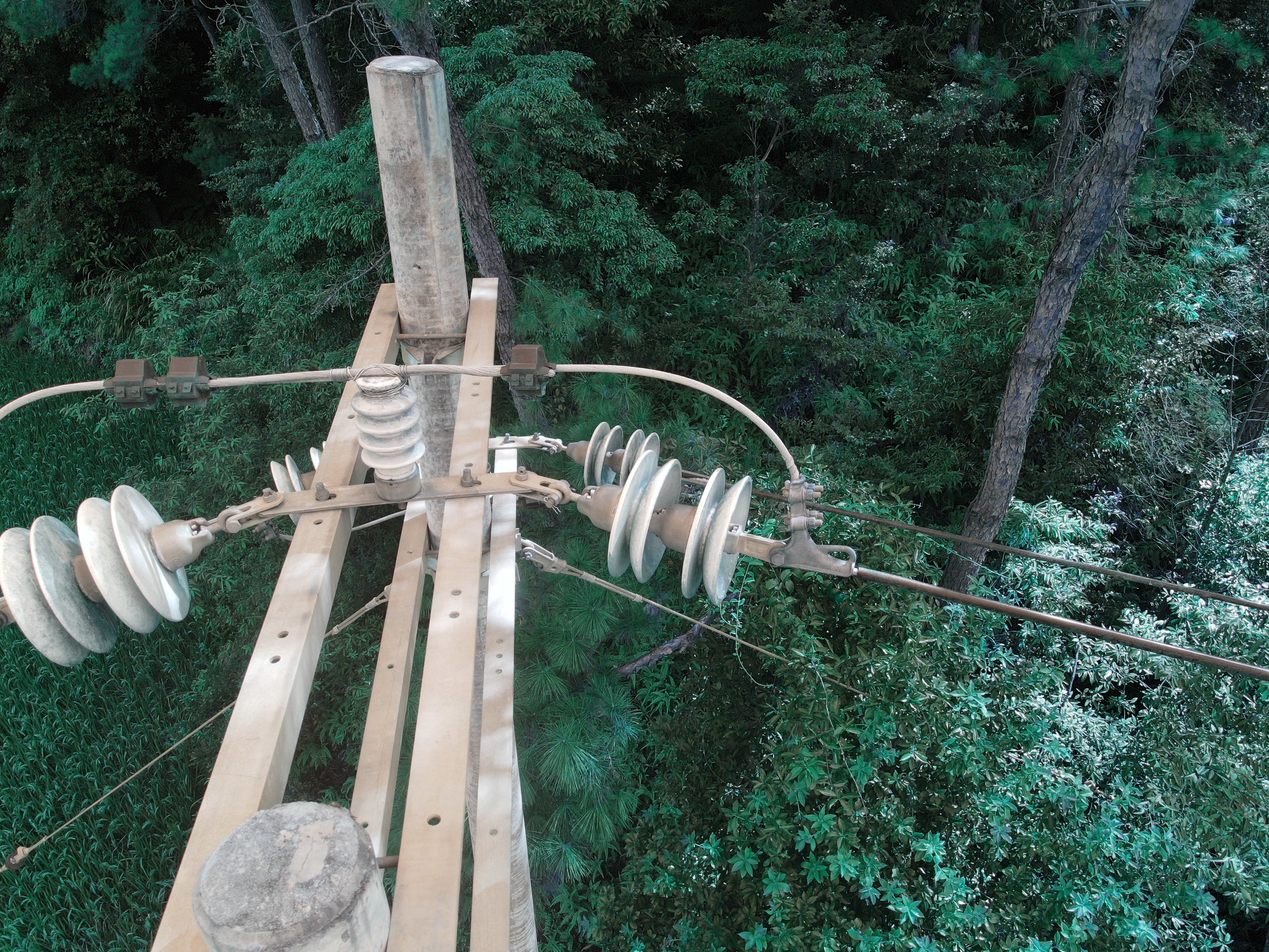severe_soiling_no_discharge_whole: (1, 483, 215, 671), (576, 447, 756, 613), (345, 367, 429, 505), (564, 424, 665, 489)
